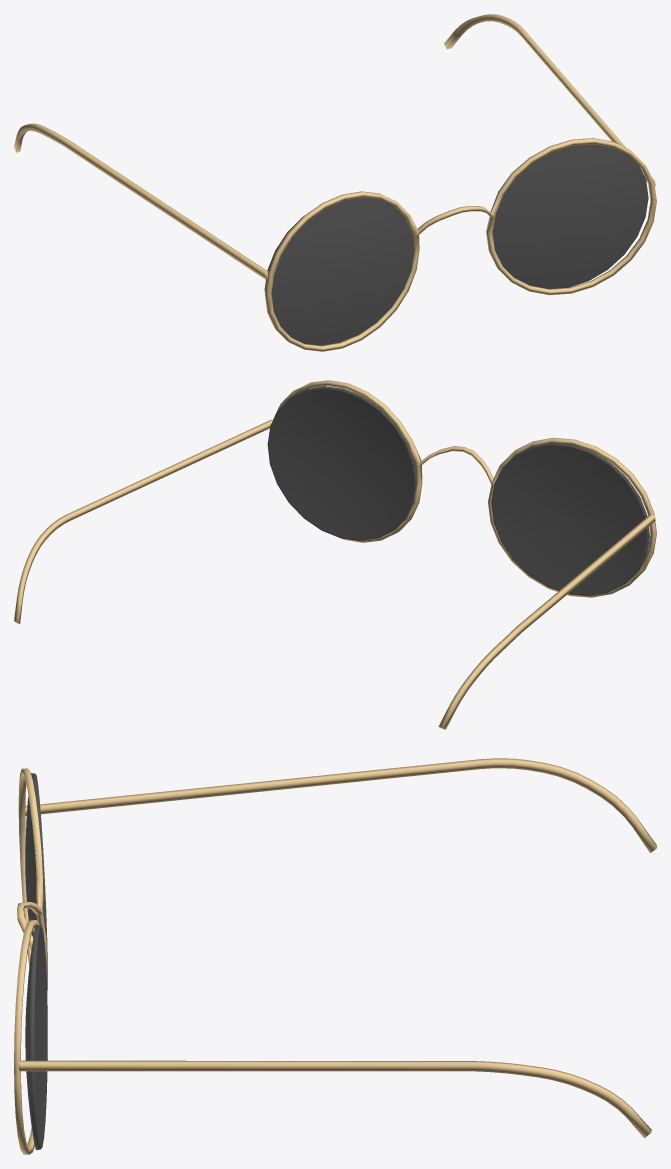
Rendered from glass3.glb.
The picture shows the model from 3 angles, top to bottom: view 1: azimuth 30°, elevation 25°; view 2: azimuth 150°, elevation 25°; view 3: azimuth 270°, elevation 25°; orthographic projection. The views are drawn at different scales.
Parts seen in each view (by area): view 1: glasses lenses.002, glasses lenses.001, glasses frame.001, glasses frame; view 2: glasses lenses.001, glasses lenses.002, glasses frame.001, glasses frame; view 3: glasses frame, glasses frame.001, glasses lenses.002, glasses lenses.001.
Part boxes in pixels (x1=…): glasses lenses.002: x1=492, y1=144, x2=648, y2=288; glasses lenses.001: x1=264, y1=197, x2=414, y2=345; glasses frame.001: x1=14, y1=123, x2=463, y2=351; glasses frame: x1=444, y1=14, x2=656, y2=295; glasses lenses.001: x1=491, y1=442, x2=649, y2=595; glasses lenses.002: x1=267, y1=386, x2=416, y2=540; glasses frame.001: x1=438, y1=438, x2=656, y2=729; glasses frame: x1=14, y1=380, x2=465, y2=623; glasses frame: x1=14, y1=907, x2=651, y2=1154; glasses frame.001: x1=17, y1=758, x2=656, y2=978; glasses lenses.002: x1=25, y1=925, x2=47, y2=1150; glasses lenses.001: x1=25, y1=773, x2=47, y2=990.
Size of the model in its own units: 0.1505 by 0.0478 by 0.1329.
